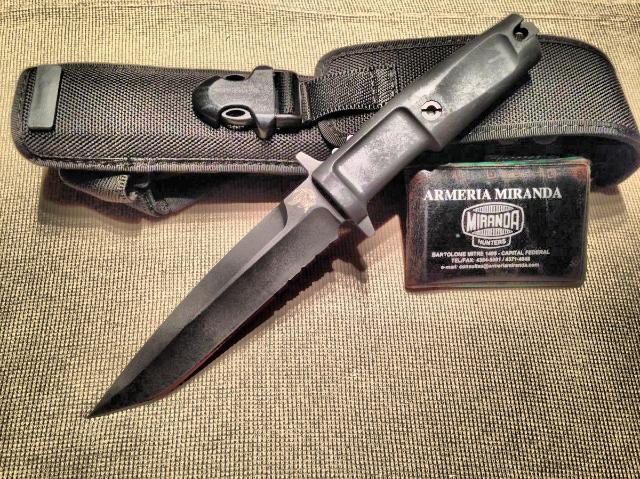knife: (84, 178, 353, 426)
